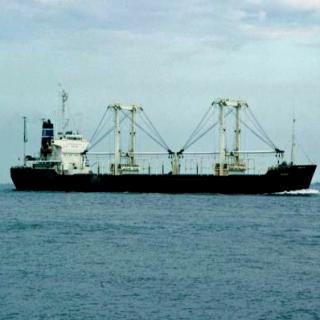Bulk Carrier: (10, 86, 320, 191)
